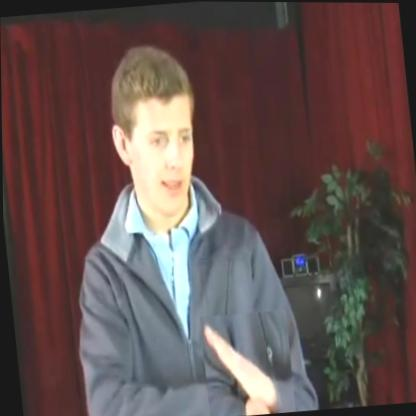NiceToMeetYou: (199, 309, 295, 416)
